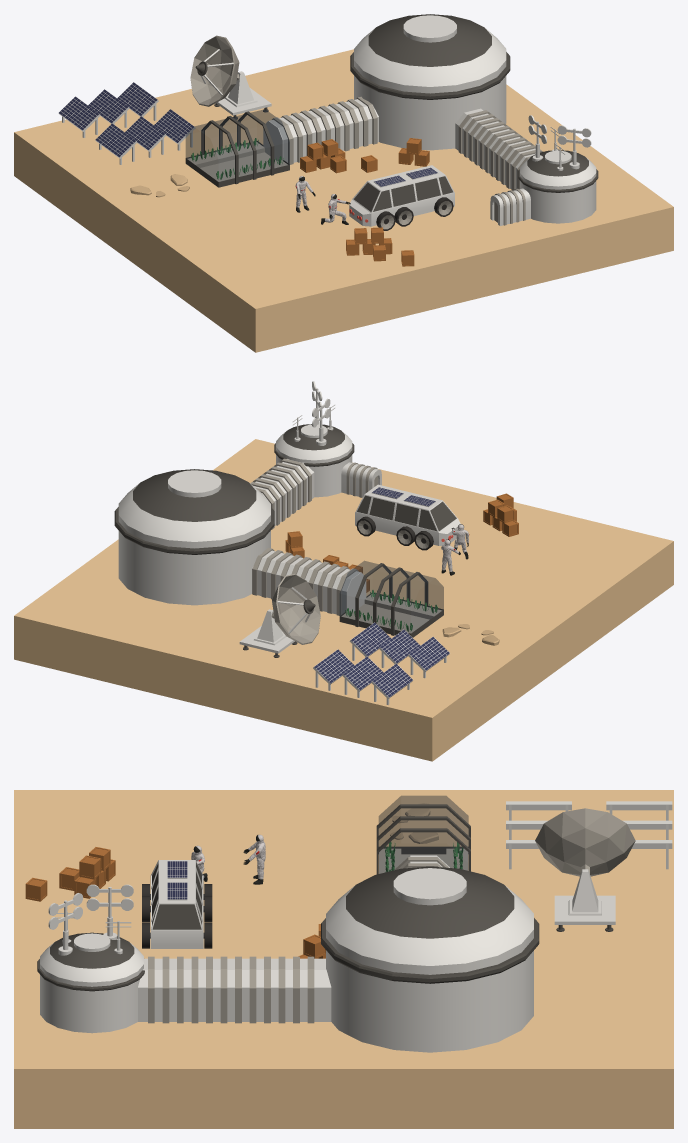
File: 00 Space_6.FBX
The picture shows the model from 3 angles, top to bottom: view 1: azimuth 30°, elevation 25°; view 2: azimuth 150°, elevation 25°; view 3: azimuth 270°, elevation 25°; orthographic projection. The views are drawn at different scales.
Visible parts, largest first — view 1: Base, Box037, Box004, Space_Bus, Dish, Solar_panel, Solar_panel003, Solar_panel001, Solar_panel002, Solar_panel005, Solar_panel004; view 2: Base, Box037, Box004, Space_Bus, Dish, Solar_panel, Solar_panel003, Solar_panel004, Solar_panel005, Solar_panel001, Solar_panel002; view 3: Base, Box037, Dish, Box004, Space_Bus, Solar_panel003, Solar_panel, suit.
Part boxes in pixels (<box>): Base: <box>14,49,673,352</box>; Box037: <box>263,14,598,225</box>; Box004: <box>185,109,289,187</box>; Space_Bus: <box>349,165,454,230</box>; Dish: <box>190,35,271,119</box>; Solar_panel: <box>95,123,137,164</box>; Solar_panel003: <box>58,96,100,137</box>; Solar_panel001: <box>125,116,166,157</box>; Solar_panel002: <box>154,109,195,150</box>; Solar_panel005: <box>117,82,158,120</box>; Solar_panel004: <box>88,89,129,127</box>; Base: <box>14,439,673,761</box>; Box037: <box>114,381,381,615</box>; Box004: <box>339,561,443,637</box>; Space_Bus: <box>355,484,460,550</box>; Dish: <box>239,573,320,657</box>; Solar_panel: <box>408,636,449,678</box>; Solar_panel003: <box>371,663,413,704</box>; Solar_panel004: <box>342,656,383,697</box>; Solar_panel005: <box>313,649,354,690</box>; Solar_panel001: <box>379,629,420,667</box>; Solar_panel002: <box>349,622,390,660</box>; Base: <box>14,790,673,1128</box>; Box037: <box>37,855,539,1052</box>; Dish: <box>535,808,635,931</box>; Box004: <box>376,796,470,874</box>; Space_Bus: <box>142,860,212,948</box>; Solar_panel003: <box>606,801,672,820</box>; Solar_panel: <box>506,801,571,820</box>; suit: <box>243,834,265,884</box>.
Bounding box in the file's own units: 10000 × 3081 × 10000.
